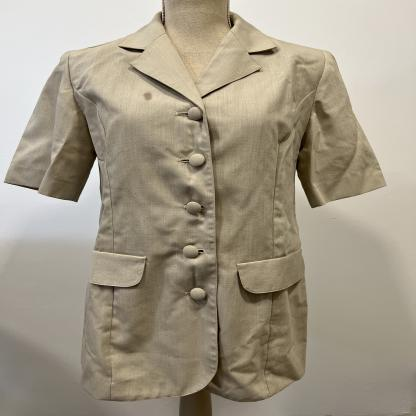stain: (141, 91, 155, 103)
